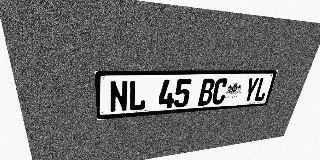4: (158, 79, 176, 109)
5: (173, 79, 192, 108)
B: (198, 78, 216, 106)
C: (211, 78, 229, 105)
L: (128, 80, 147, 111), (253, 77, 271, 102)
N: (109, 80, 128, 113)
Y: (242, 77, 260, 102)
